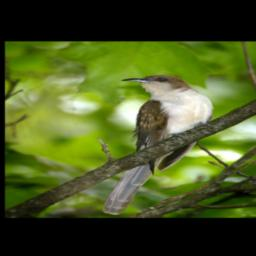Cuckoo: (102, 74, 216, 215)
